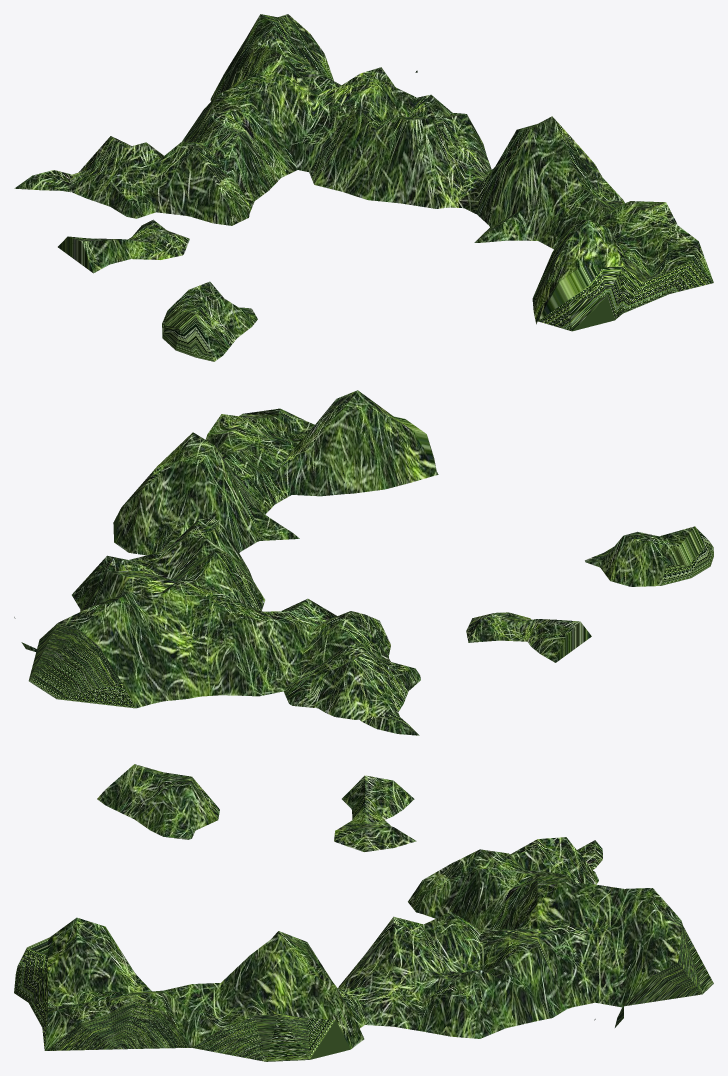
The model's file is Relva.fbx.
3 views of the same model, one above another, from view 1: azimuth 30°, elevation 25°; view 2: azimuth 150°, elevation 25°; view 3: azimuth 270°, elevation 25° (orthographic).
Parts seen in each view (by area): view 1: erva; view 2: erva; view 3: erva.
Boxes of the visible parts, x1,y1,x2,y2 form: erva: (14, 14, 713, 361); erva: (14, 390, 713, 735); erva: (14, 764, 713, 1061).
Size of the model in its own units: 1904 by 355 by 2241.
1 material, 1 textured.
